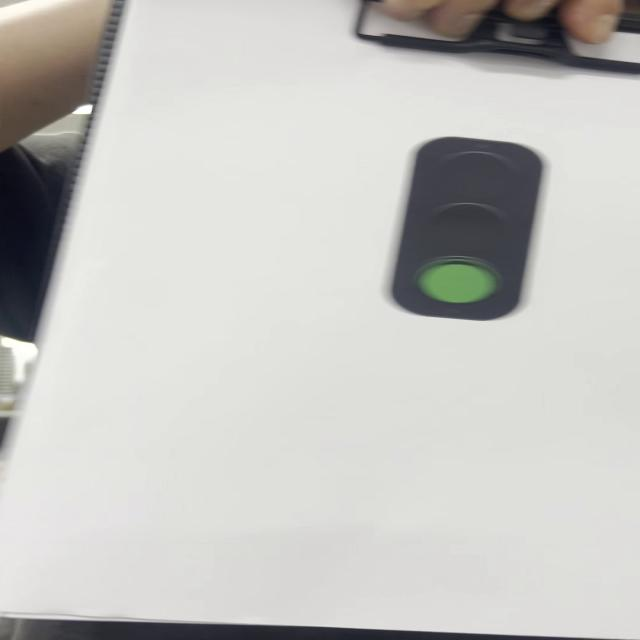green: (392, 137, 554, 323)
